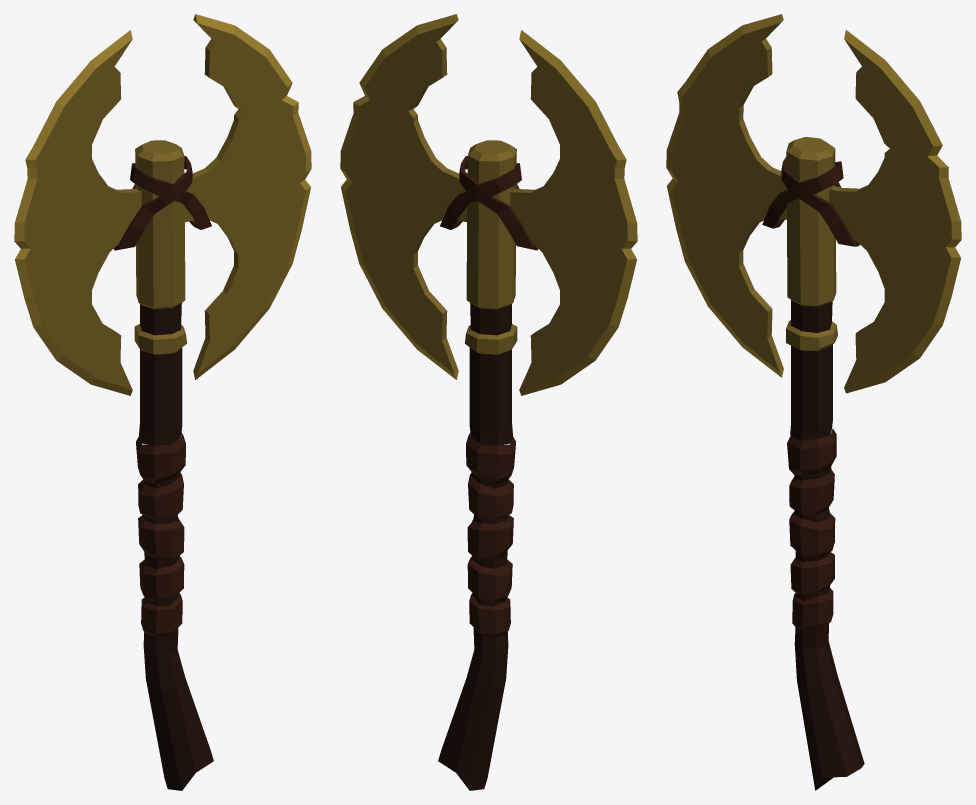
File: Axe_Double_Golden.glb
3 views of the same model, side by side, from view 1: azimuth 30°, elevation 25°; view 2: azimuth 150°, elevation 25°; view 3: azimuth 330°, elevation 25° (orthographic).
Visible parts, largest first — view 1: Axe_Double_Golden; view 2: Axe_Double_Golden; view 3: Axe_Double_Golden.
Part boxes in pixels (box(x1,y1,x2,y2)): Axe_Double_Golden: box(14, 14, 311, 790); Axe_Double_Golden: box(340, 14, 637, 790); Axe_Double_Golden: box(666, 14, 961, 790).
Size of the model in its own units: 0.4116 by 1.02 by 0.064.
